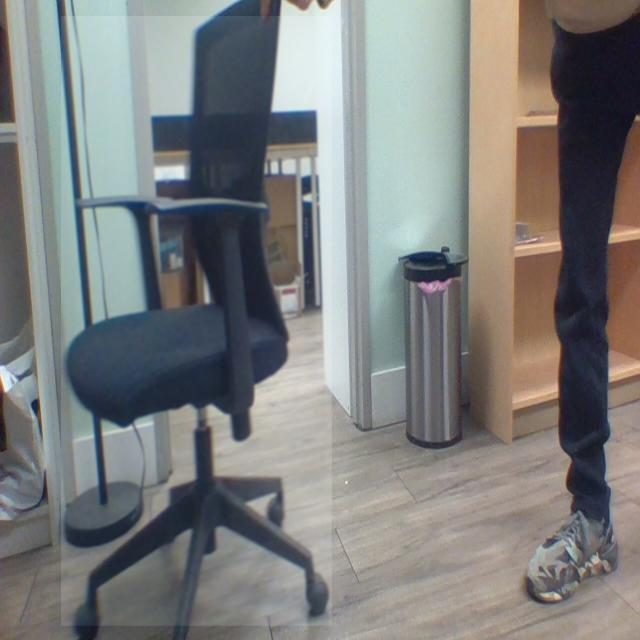chair: (61, 17, 333, 628)
